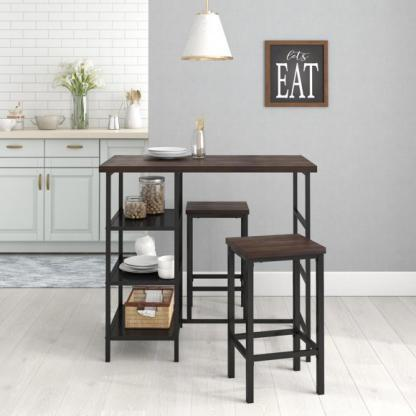chair: (224, 229, 332, 401), (187, 194, 250, 319)
light: (182, 0, 234, 159)
table: (85, 150, 315, 365)
